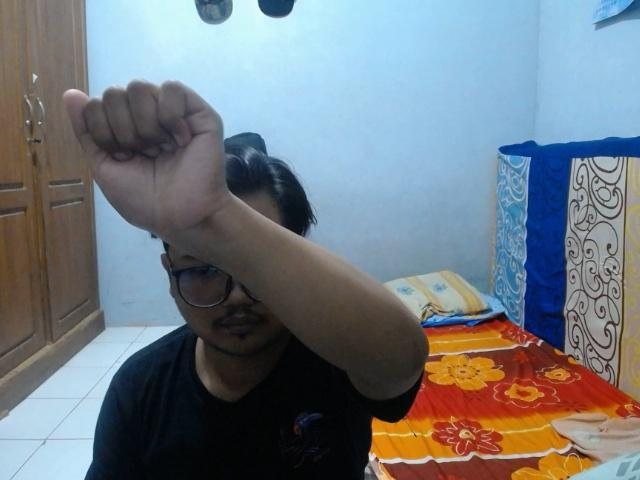Grab: (56, 71, 237, 248)
